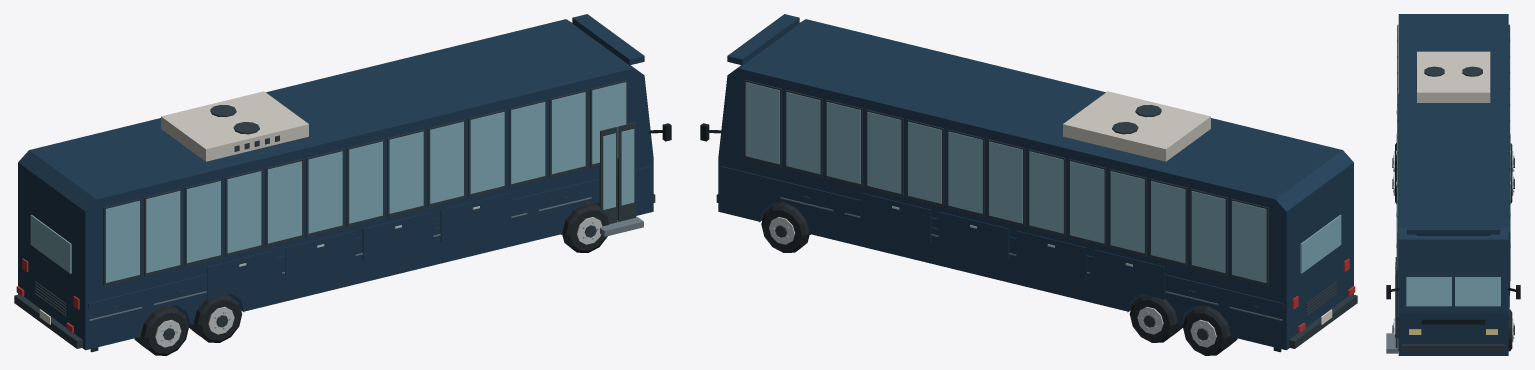
File: b15_intercity_motor_coach.glb
3 views of the same model, side by side, from view 1: azimuth 30°, elevation 25°; view 2: azimuth 150°, elevation 25°; view 3: azimuth 270°, elevation 25° (orthographic). The views are drawn at different scales.
Visible parts, largest first — view 1: b15_intercity_motor_coach; view 2: b15_intercity_motor_coach; view 3: b15_intercity_motor_coach.
Boxes of the visible parts, box(x1,y1,x2,y2) form: b15_intercity_motor_coach: box(14, 14, 671, 355); b15_intercity_motor_coach: box(700, 14, 1357, 355); b15_intercity_motor_coach: box(1386, 14, 1520, 355).
Size of the model in its own units: 12.78 by 3.89 by 3.12.
